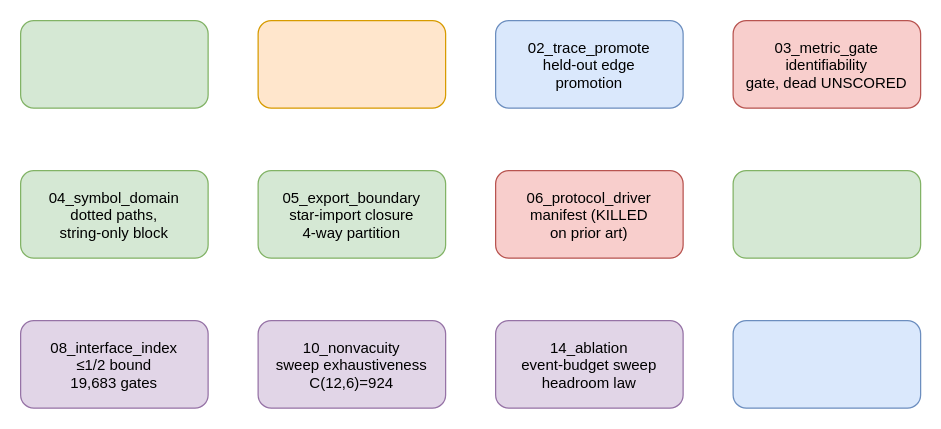
This 941x429 diagram has some shape labels left out. Here are the shapes that lost their labels. From the top down, the box of each, then its label:
(19, 19, 208, 108): 00_cpg_static resolve CALLS/IMPORTS SCC, blast BFS
(257, 19, 446, 108): 01_dyn_oracle settrace harness event budget
(732, 169, 921, 258): 07_import_closure out-of-corpus base witness
(732, 319, 921, 408): run_auto_research.py variation registry --pair, --repo all
